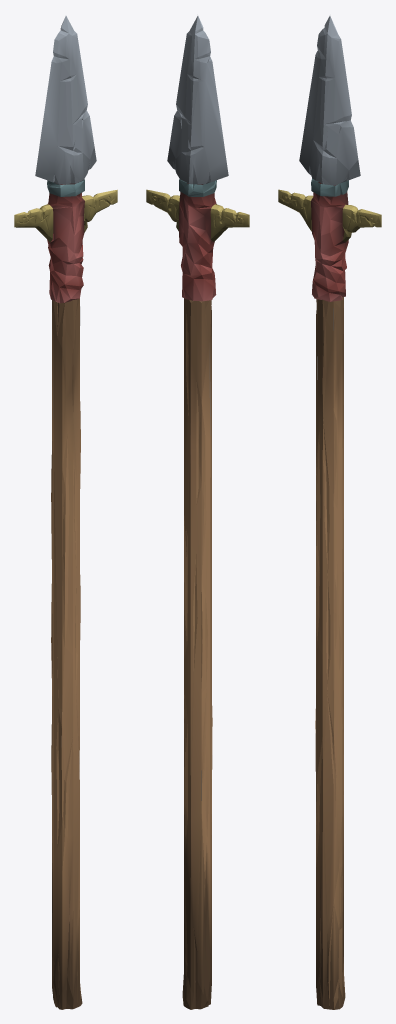
Rendered from epic_LongPiercer.fbx.
3 renders of one model, left to right at view 1: azimuth 30°, elevation 25°; view 2: azimuth 150°, elevation 25°; view 3: azimuth 330°, elevation 25°, orthographic.
Parts seen in each view (by area): view 1: epic_LongPiercer_mesh; view 2: epic_LongPiercer_mesh; view 3: epic_LongPiercer_mesh.
Part boxes in pixels (left/top/right/bottom): epic_LongPiercer_mesh: left=14, top=16, right=117, bottom=1009; epic_LongPiercer_mesh: left=146, top=16, right=249, bottom=1009; epic_LongPiercer_mesh: left=278, top=16, right=381, bottom=1009.
Size of the model in its own units: 34.41 by 315 by 11.05.
